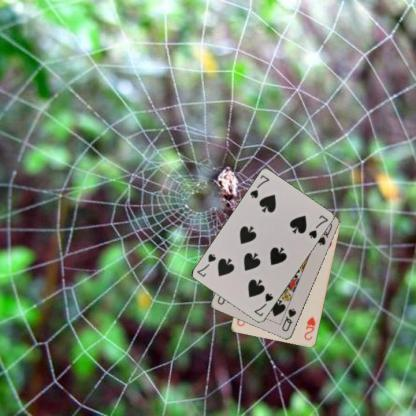2h: (302, 315, 316, 341)
7s: (252, 290, 274, 318), (248, 173, 270, 200)
Qs: (280, 306, 298, 333)
